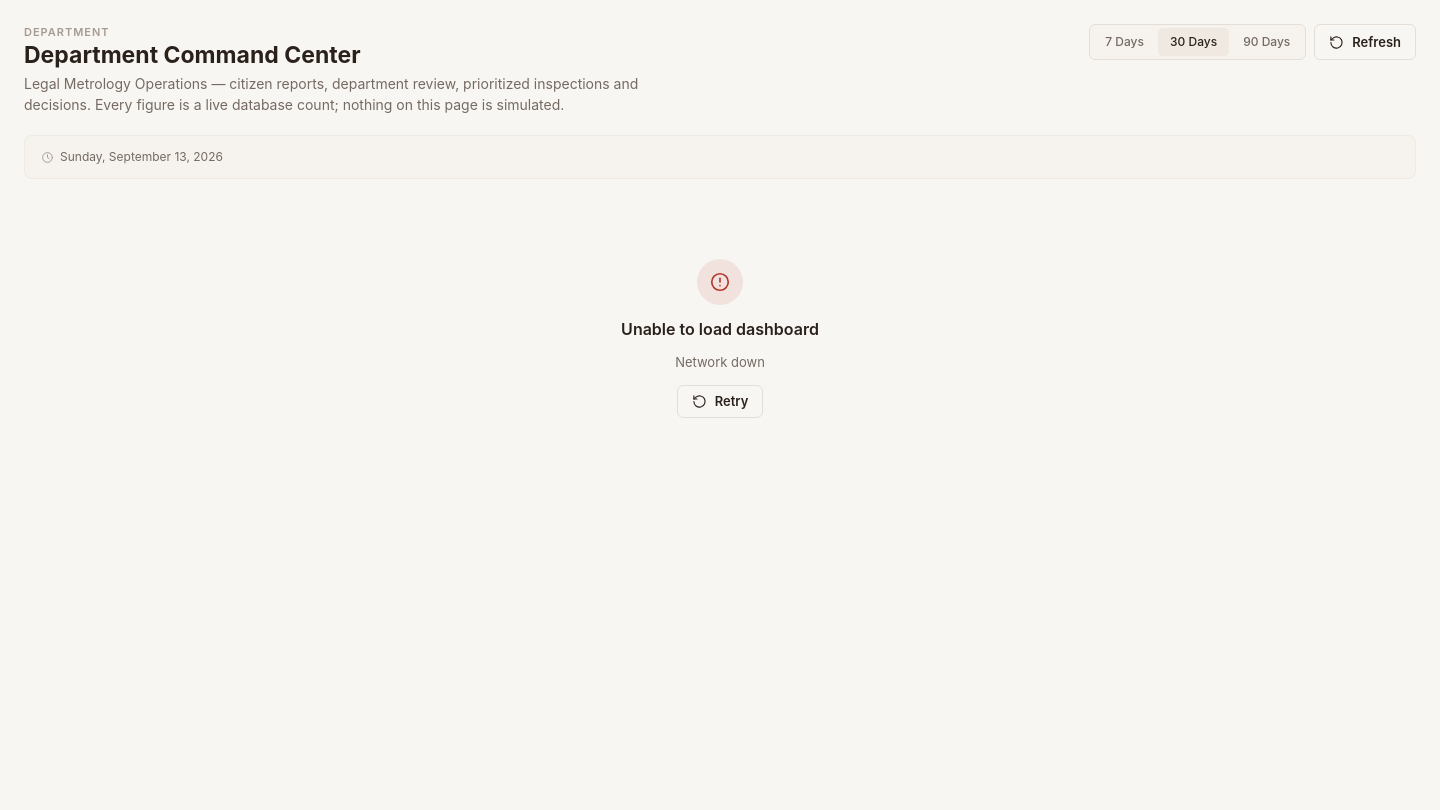
Test case: DepartmentPage (UI-04) › shows the error state with Retry when the dashboard API fails
Expected: the text "Unable to load dashboard" is shown, [621,317,819,341]
Expected: the text "Network down" is shown, [675,353,765,373]
Click the button "Retry": [720, 401] box [677,385,763,418]
(page scrolled)
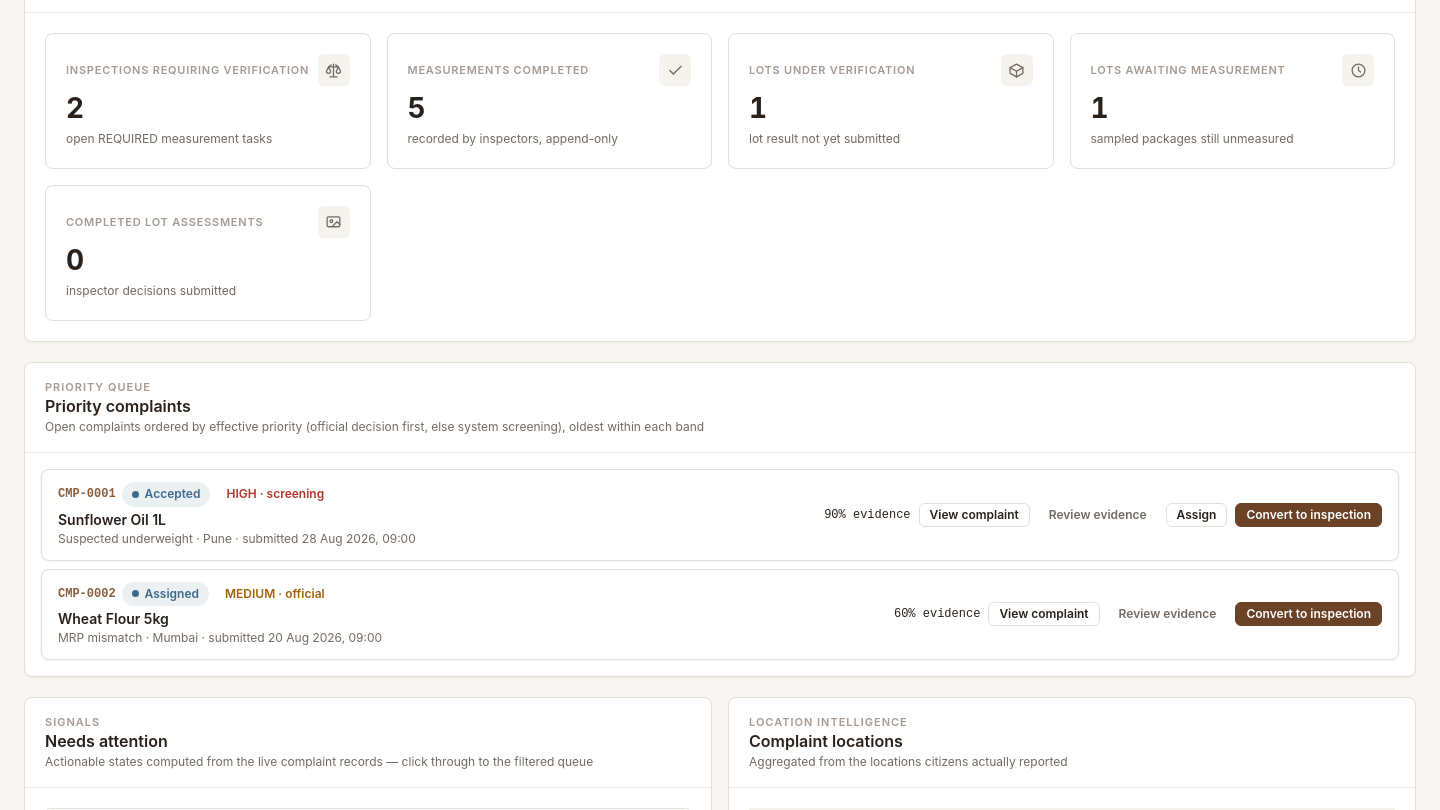
Expected: the heading "Priority complaints" is shown, [45,396,191,416]
